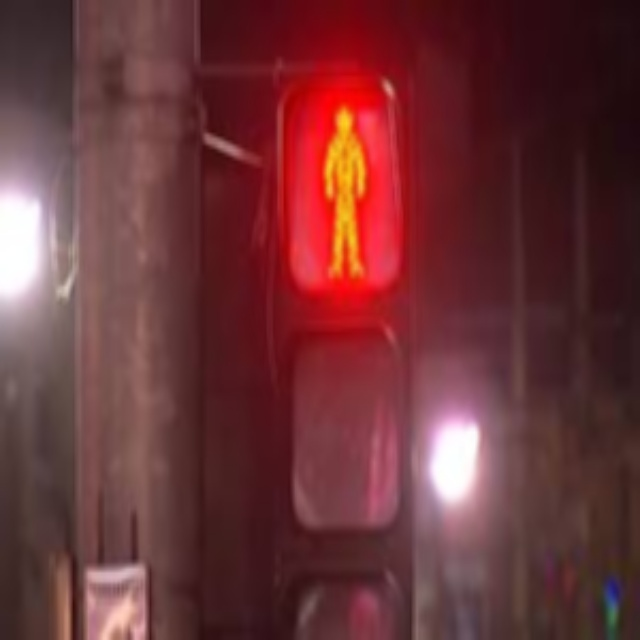red_light: (277, 78, 405, 296)
